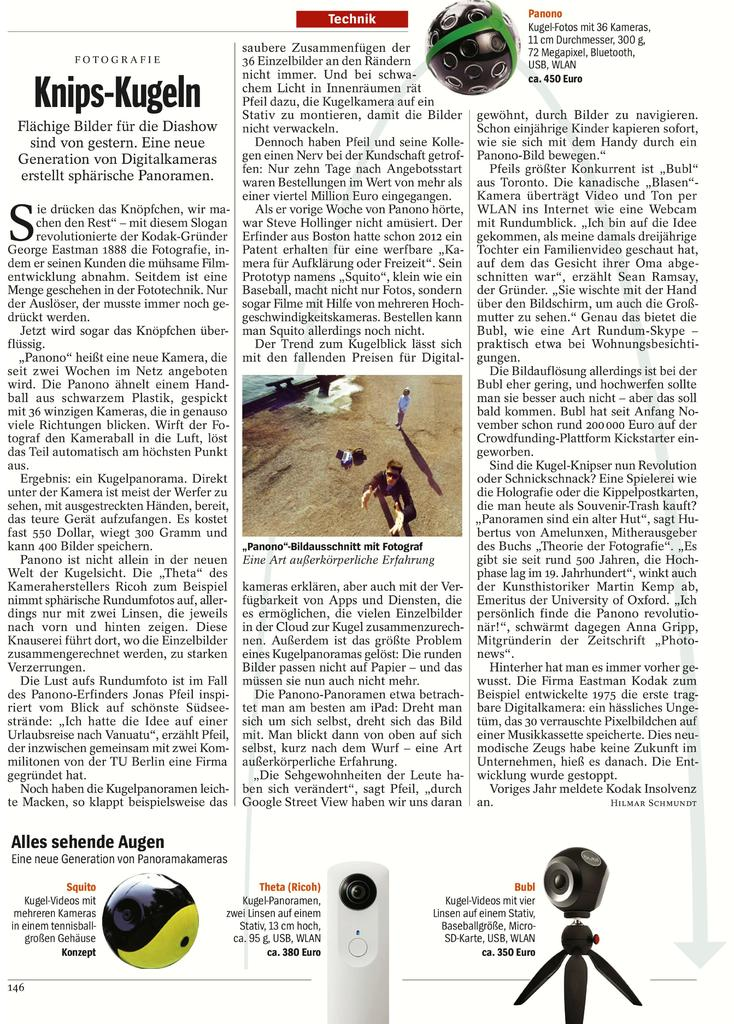Ball: (103, 872, 199, 965), (428, 3, 516, 97)
